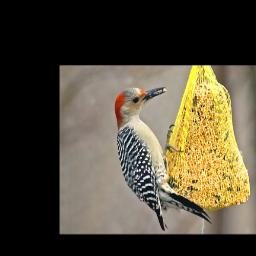Woodpecker: (100, 81, 216, 229)
